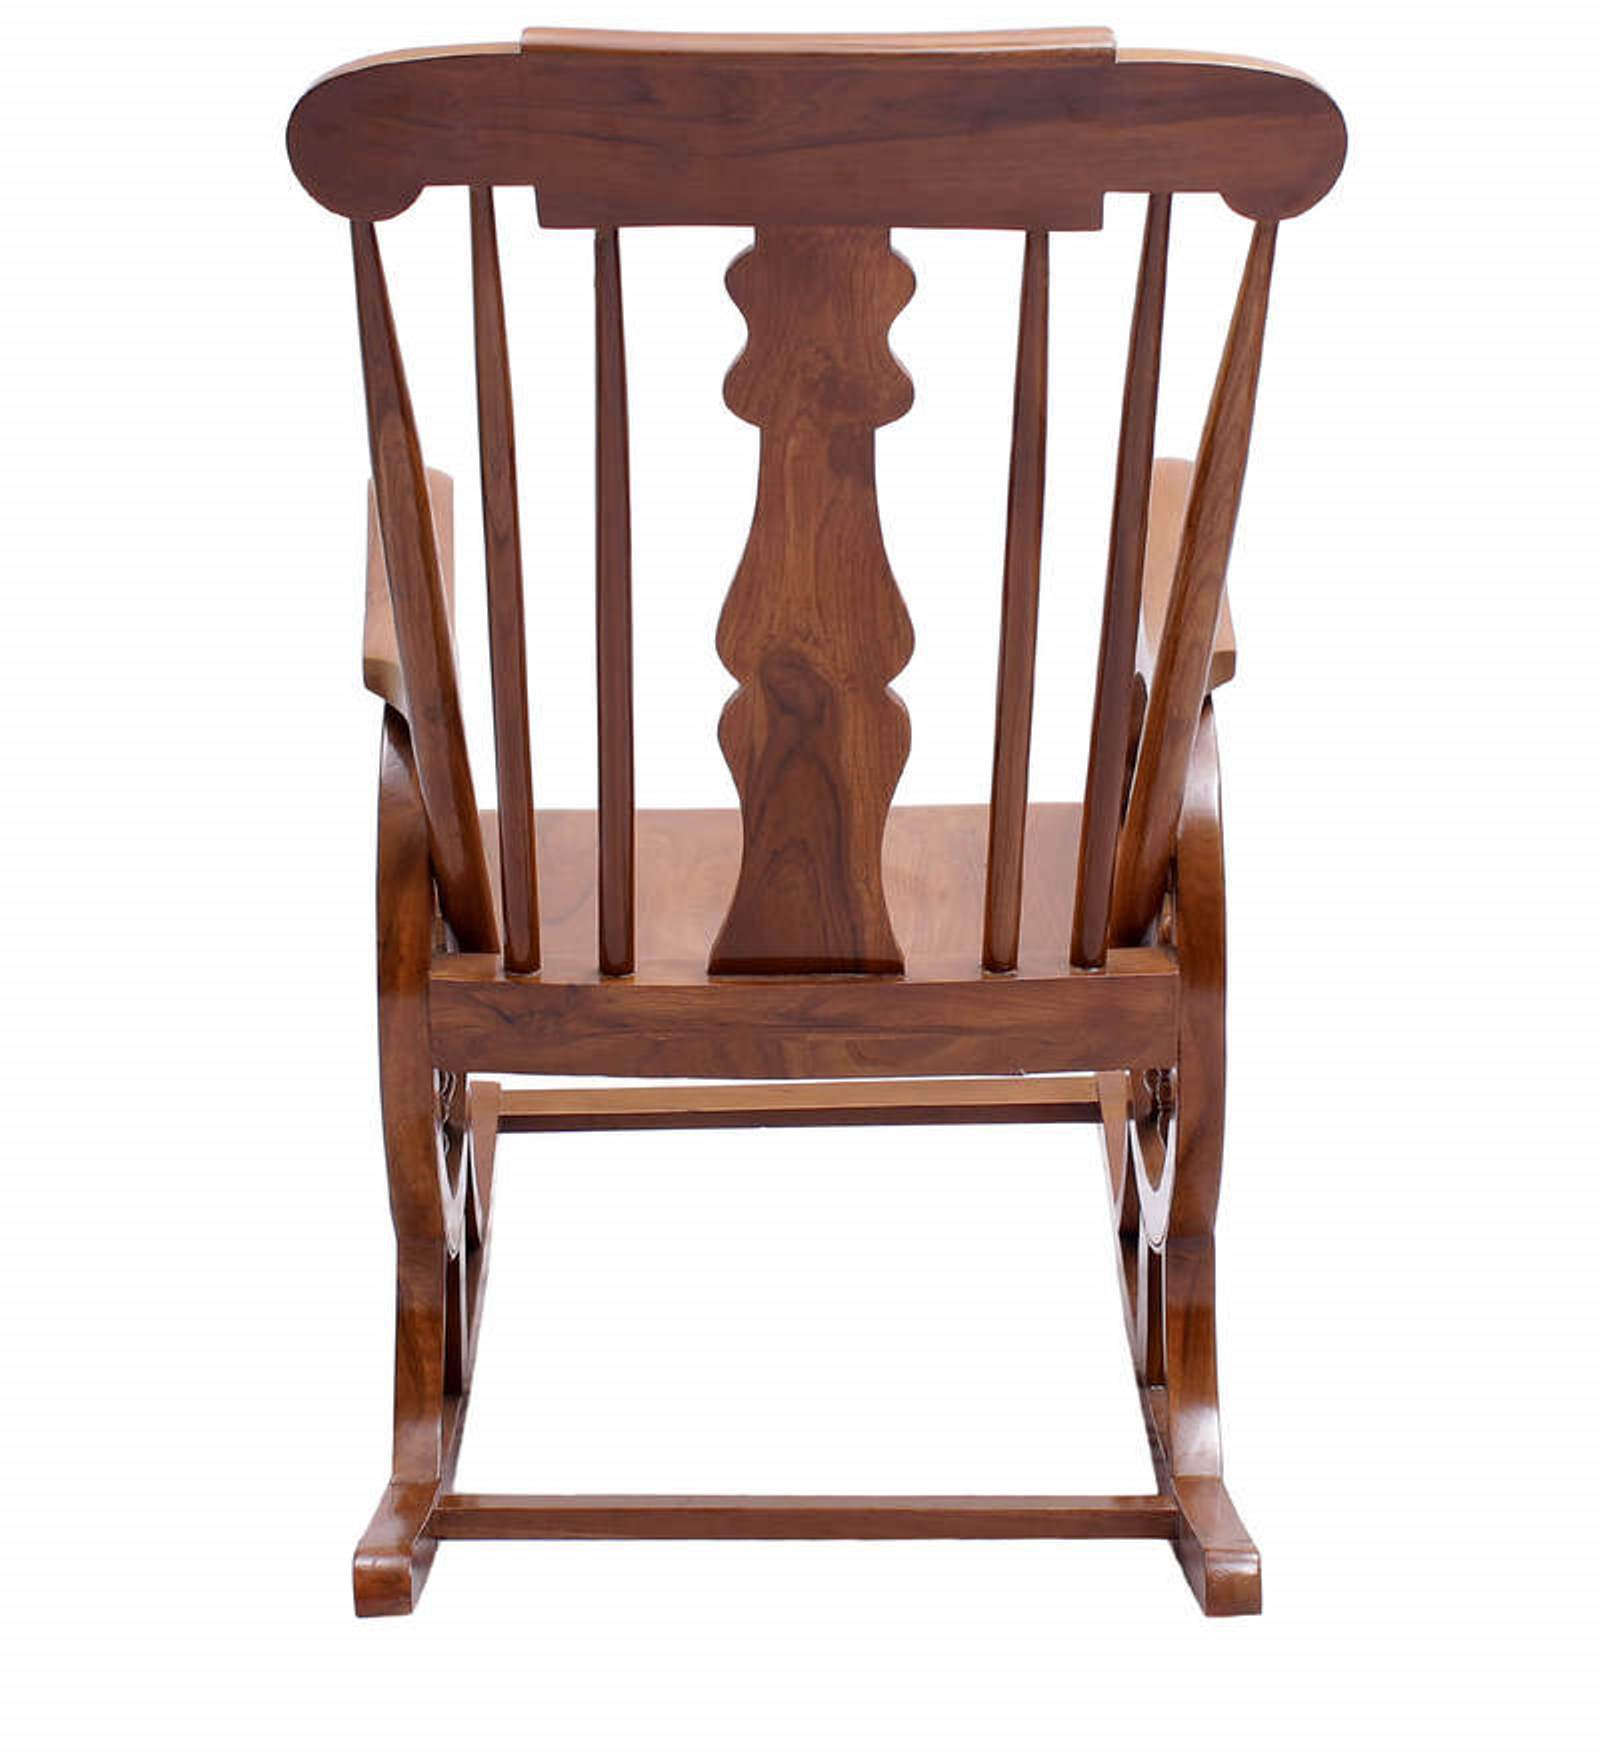Chelmsford Teak Wood Rocking Chair in Composite Teak Finish by Finesse: (198, 8, 1352, 1639)
